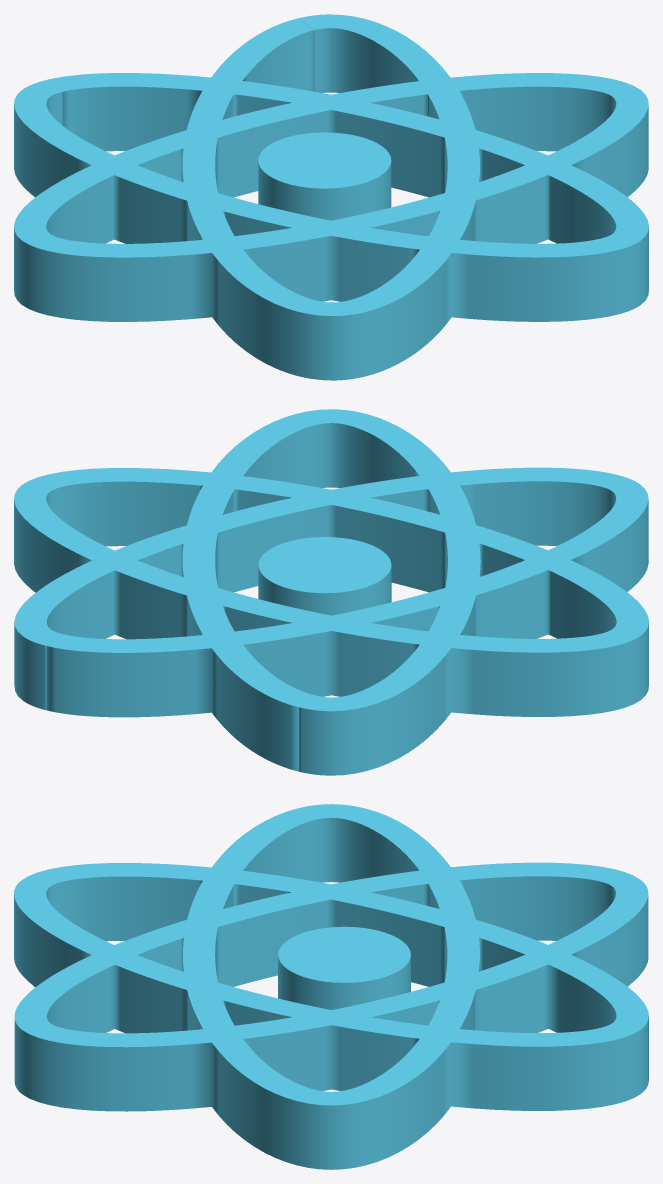
The model's file is react.gltf.
The picture shows the model from 3 angles, top to bottom: view 1: azimuth 30°, elevation 25°; view 2: azimuth 150°, elevation 25°; view 3: azimuth 270°, elevation 25°; orthographic projection.
Parts seen in each view (by area): view 1: Curve, Curve.002; view 2: Curve, Curve.002; view 3: Curve, Curve.002.
Part boxes in pixels (left/top/right/bottom): Curve: left=14, top=14, right=648, bottom=380; Curve.002: left=258, top=132, right=391, bottom=220; Curve: left=14, top=409, right=648, bottom=775; Curve.002: left=258, top=537, right=391, bottom=615; Curve: left=14, top=804, right=648, bottom=1169; Curve.002: left=278, top=926, right=410, bottom=1009.
Size of the model in its own units: 2.01 by 0.2 by 1.79.
